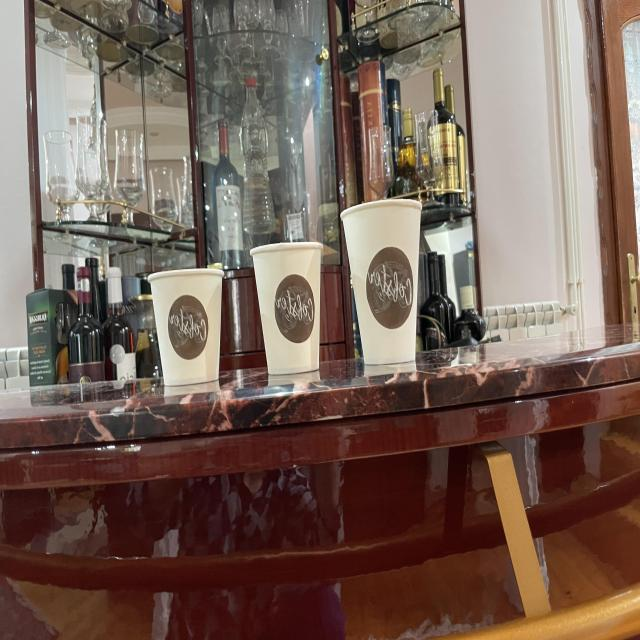big: (342, 193, 425, 367)
medium: (252, 237, 326, 375)
small: (146, 261, 230, 388)
